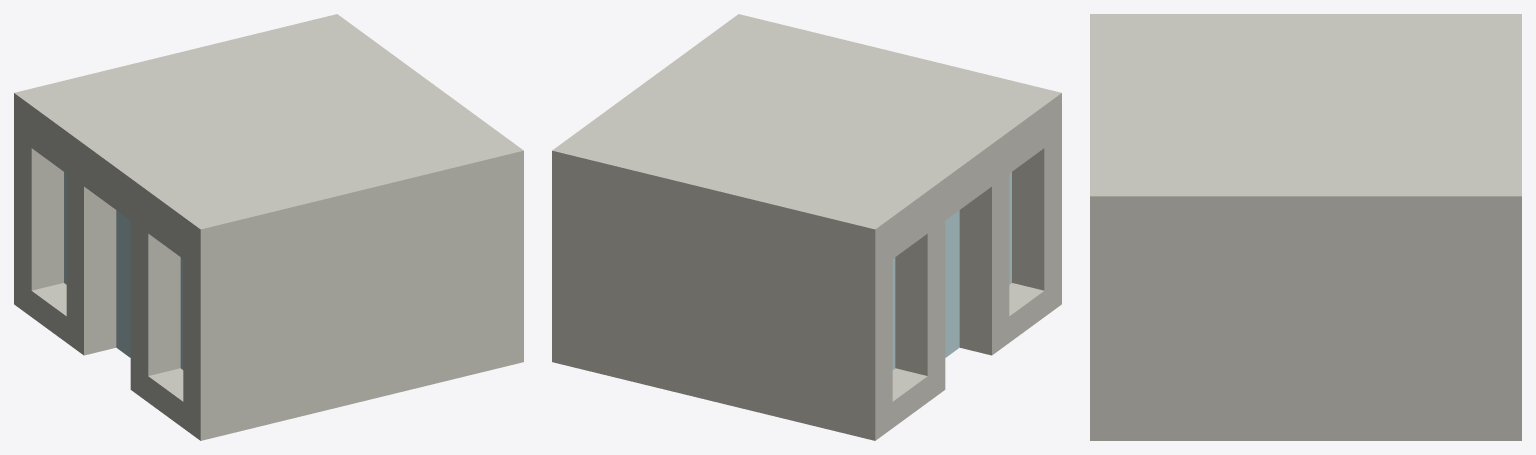
Rendered from modularBuildings_054.gltf.
3 renders of one model, left to right at view 1: azimuth 30°, elevation 25°; view 2: azimuth 150°, elevation 25°; view 3: azimuth 270°, elevation 25°, orthographic. The views are drawn at different scales.
Visible parts, largest first — view 1: Mesh1 Group1 Model; view 2: Mesh1 Group1 Model; view 3: Mesh1 Group1 Model.
Part boxes in pixels (<box>): Mesh1 Group1 Model: <box>14,14,523,440</box>; Mesh1 Group1 Model: <box>552,14,1061,440</box>; Mesh1 Group1 Model: <box>1090,14,1521,440</box>.
Bounding box in the file's own units: 1 × 0.625 × 1.
